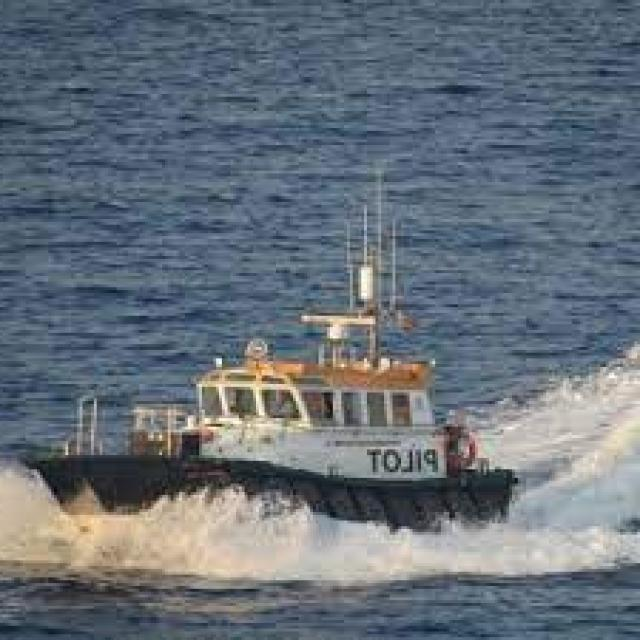houseboat: (39, 198, 518, 542)
